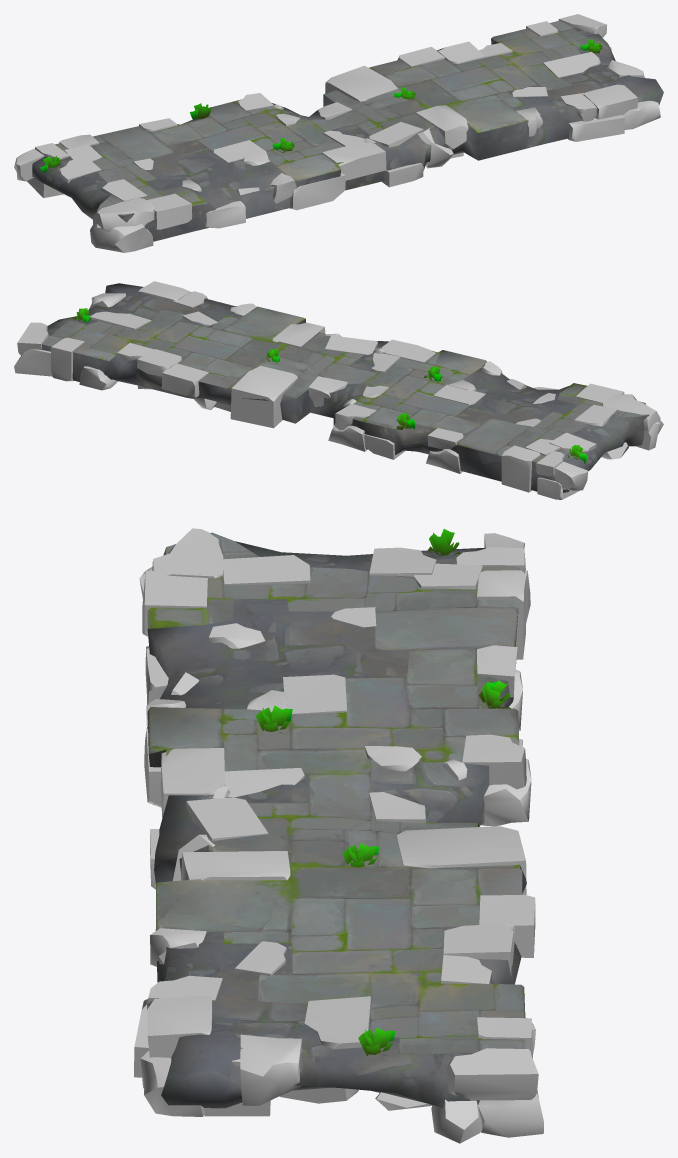
File: Area_MdBuild_SdBridge03_Group.fbx
The picture shows the model from 3 angles, top to bottom: view 1: azimuth 30°, elevation 25°; view 2: azimuth 150°, elevation 25°; view 3: azimuth 270°, elevation 25°; orthographic projection. The views are drawn at different scales.
Parts seen in each view (by area): view 1: Area_MdBuild_SdBridge03_Lod0, Area_MdProps_SdStone01_02_Vo.007; view 2: Area_MdBuild_SdBridge03_Lod0; view 3: Area_MdBuild_SdBridge03_Lod0, Area_MdProps_SdStone01_02_Vo.002.
Part boxes in pixels (<box>): Area_MdBuild_SdBridge03_Lod0: <box>14,14,663,252</box>; Area_MdProps_SdStone01_02_Vo.007: <box>417,128,453,168</box>; Area_MdBuild_SdBridge03_Lod0: <box>14,281,663,499</box>; Area_MdBuild_SdBridge03_Lod0: <box>134,528,543,1137</box>; Area_MdProps_SdStone01_02_Vo.002: <box>431,1099,482,1143</box>.
Size of the model in its own units: 24.35 by 2.04 by 7.59.
